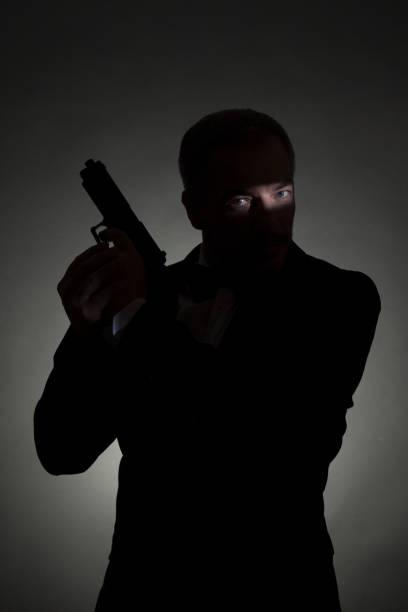weapon: (76, 152, 166, 270)
